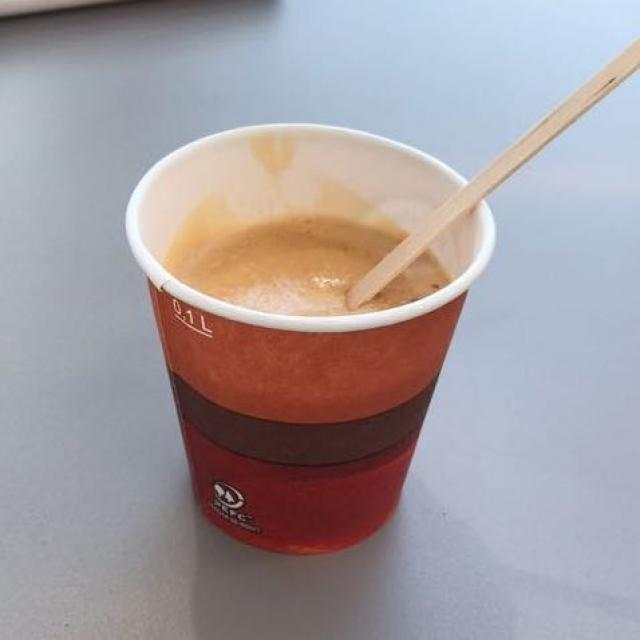coffee: (175, 210, 436, 318)
